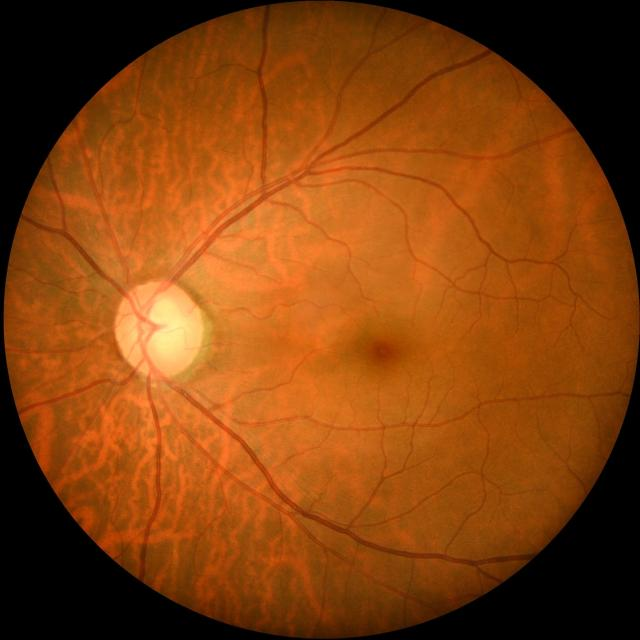OC: (136, 297, 188, 362)
OD: (114, 280, 204, 379)
